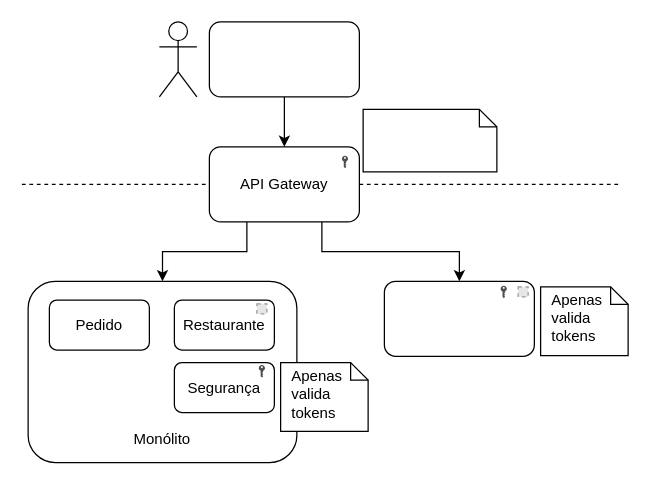
Some shapes in this 650 by 485 pixel diagram are drawn without their labels. Grey dashed boxes stand in for pictures. Each missing label, with the centre of its shape:
Administrativo: the point at 458,318
Proxy API Composer Gera tokens: the point at 429,140
UI: the point at 283,59
